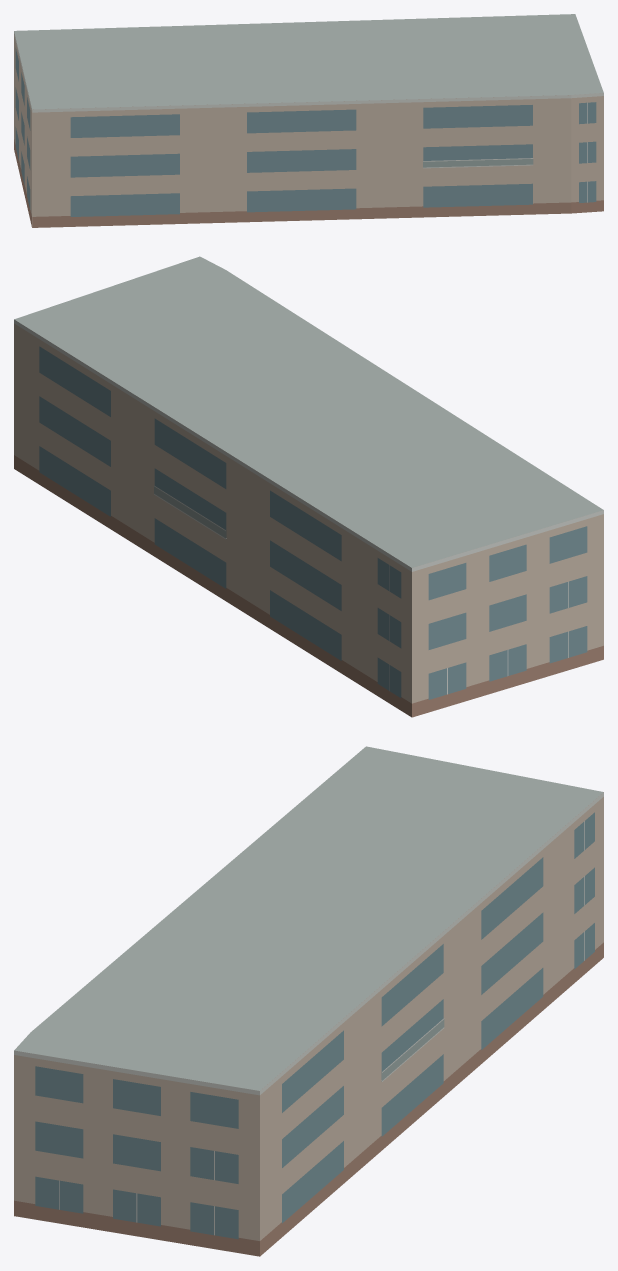
The model's file is survey-upis-32474560.glb.
3 views of the same model, one above another, from view 1: azimuth 30°, elevation 25°; view 2: azimuth 150°, elevation 25°; view 3: azimuth 270°, elevation 25° (orthographic). The views are drawn at different scales.
Visible parts, largest first — view 1: survey-upis-32474560.tmp; view 2: survey-upis-32474560.tmp; view 3: survey-upis-32474560.tmp.
Boxes of the visible parts, x1,y1,x2,y2 form: survey-upis-32474560.tmp: [14, 14, 603, 227]; survey-upis-32474560.tmp: [14, 256, 603, 717]; survey-upis-32474560.tmp: [14, 746, 603, 1256].
Bounding box in the file's own units: 40.85 × 9.15 × 29.55.
